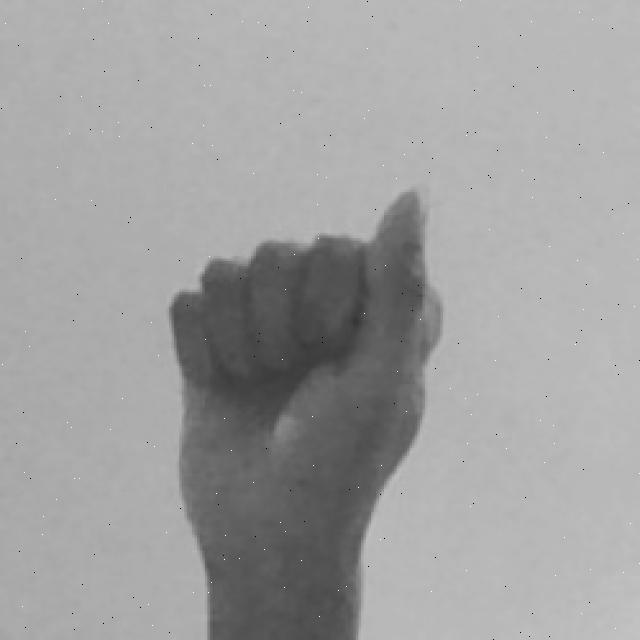A: (169, 182, 456, 640)
